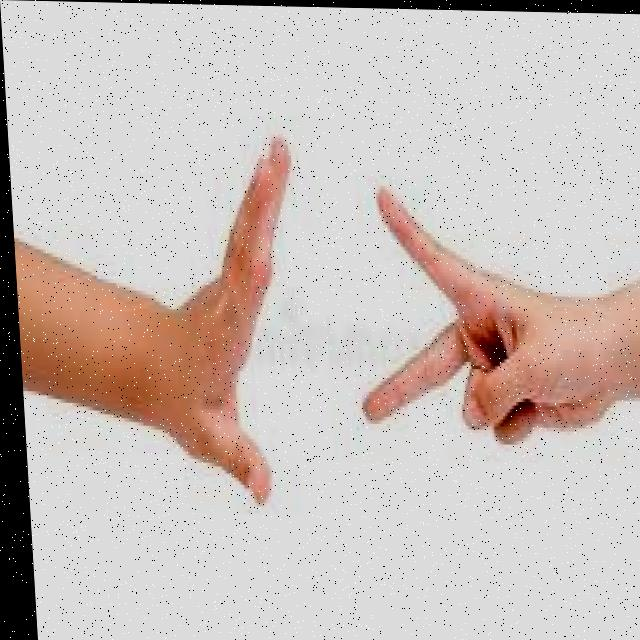paper: (81, 99, 327, 576)
scirssors: (334, 135, 640, 527)
